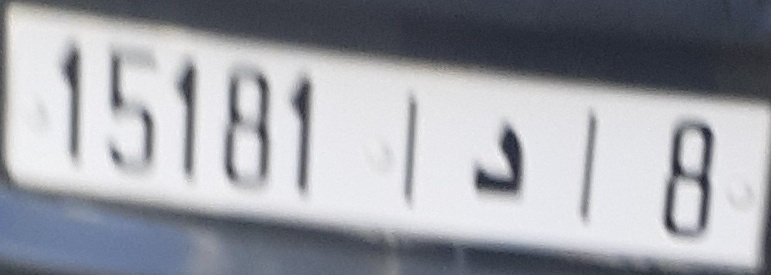1: (55, 41, 92, 166), (287, 70, 320, 197), (175, 52, 202, 184)
5: (103, 42, 160, 179)
8: (658, 112, 718, 246), (222, 61, 275, 194)
d: (470, 117, 532, 206)
